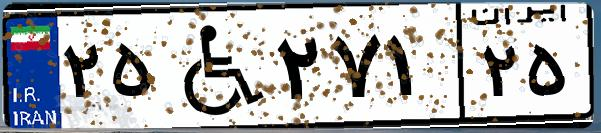1: (385, 28, 445, 110)
2: (270, 28, 330, 110), (57, 26, 110, 100), (475, 38, 525, 113)
5: (525, 38, 570, 115), (110, 28, 158, 98)
7: (330, 28, 385, 110)
ژ (معلولین و جانبازان): (158, 12, 270, 120)
